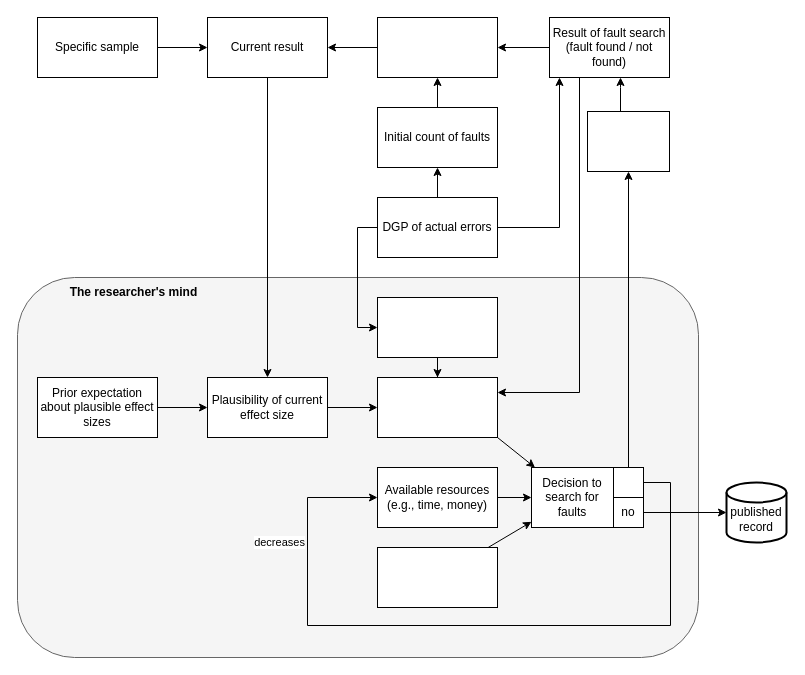
This 805x675 diagram has some shape labels left out. The shapes that lost their labels are listed below. From the top down, each one's box as (x1, y1, x2, y2) in pixels, then its label:
(376, 16, 498, 78): Current count of faults
(586, 110, 670, 172): Search activities
(376, 296, 498, 358): Belief about DGP
(376, 376, 498, 438): Belief about a remaining error
(612, 466, 644, 498): yes
(376, 546, 498, 608): Individual cost-benefit analysis
